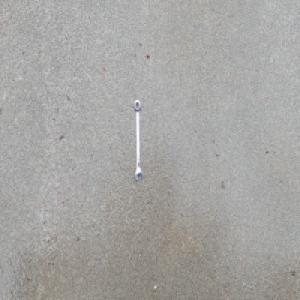Wrench: (133, 98, 142, 182)
